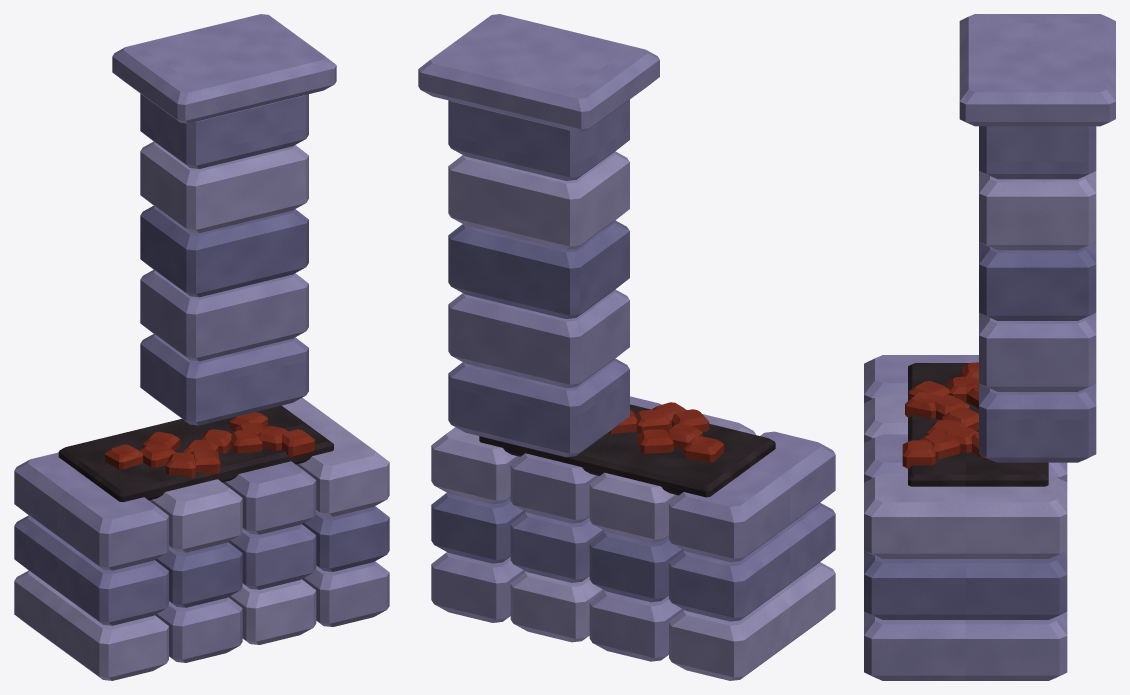
Rendered from Prop_Forge.obj.
3 renders of one model, left to right at view 1: azimuth 30°, elevation 25°; view 2: azimuth 150°, elevation 25°; view 3: azimuth 270°, elevation 25°, orthographic. The views are drawn at different scales.
Parts seen in each view (by area): view 1: Forge_masonry, Chimney, Chimney_cap, Hearth_recess, Glowing_coals; view 2: Forge_masonry, Chimney, Chimney_cap, Hearth_recess, Glowing_coals; view 3: Forge_masonry, Chimney, Chimney_cap, Hearth_recess, Glowing_coals.
Part boxes in pixels (x1,y1,x2,y2): Forge_masonry: (14, 397, 389, 680); Chimney: (140, 93, 308, 425); Chimney_cap: (112, 14, 336, 123); Hearth_recess: (58, 405, 333, 502); Glowing_coals: (105, 412, 315, 478); Forge_masonry: (431, 396, 835, 680); Chimney: (448, 99, 629, 457); Chimney_cap: (418, 14, 659, 131); Hearth_recess: (479, 404, 775, 497); Glowing_coals: (608, 402, 724, 462); Forge_masonry: (864, 355, 1067, 680); Chimney: (979, 126, 1096, 462); Chimney_cap: (959, 14, 1115, 126); Hearth_recess: (908, 363, 1048, 486); Glowing_coals: (902, 362, 986, 468).
Size of the model in its own units: 2.37 by 4.12 by 1.61.
Materials: 6 (6 with a texture image).
